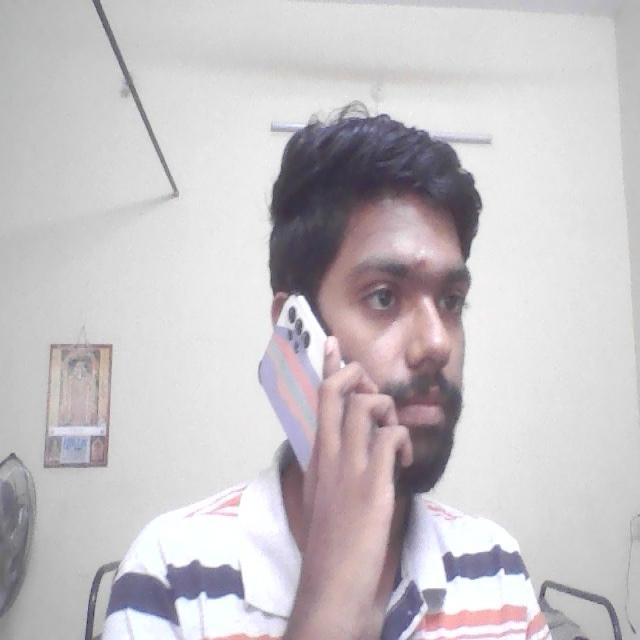Mobile: (249, 272, 350, 478)
